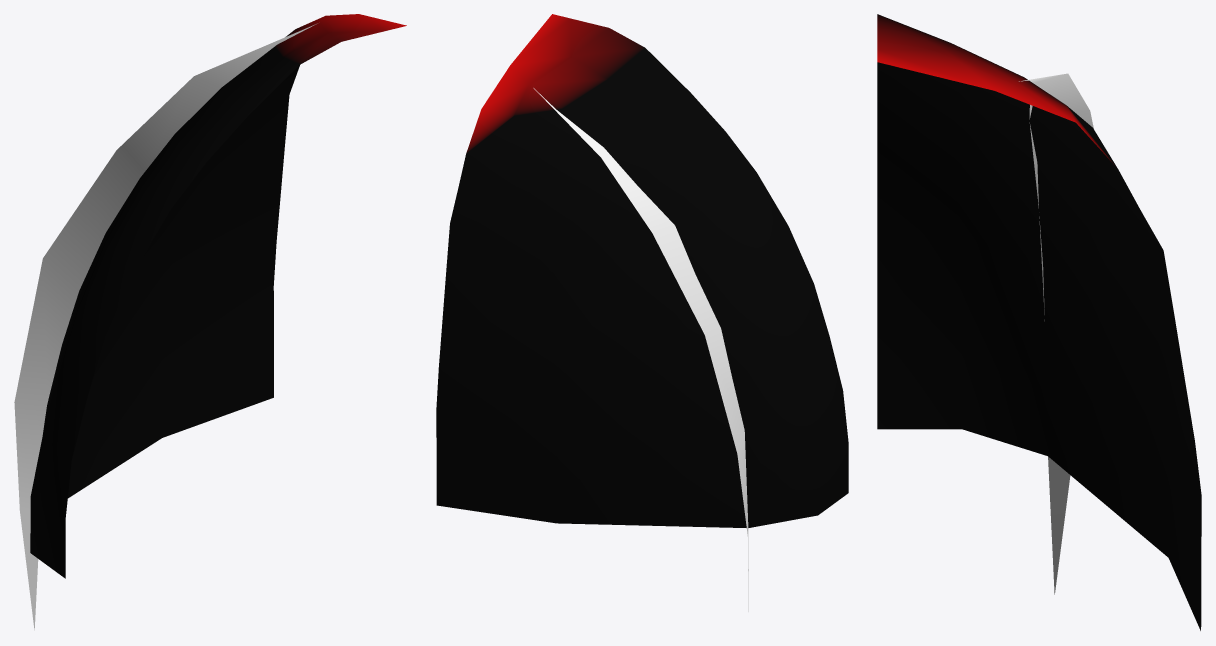
The model's file is TFD_Waterfall_03A_Top_R.fbx.
3 views of the same model, side by side, from view 1: azimuth 30°, elevation 25°; view 2: azimuth 150°, elevation 25°; view 3: azimuth 270°, elevation 25° (orthographic). The views are drawn at different scales.
Visible parts, largest first — view 1: TFD_Waterfall_03A_Top_R; view 2: TFD_Waterfall_03A_Top_R; view 3: TFD_Waterfall_03A_Top_R.
Boxes of the visible parts, box(x1,y1,x2,y2) form: TFD_Waterfall_03A_Top_R: box(14, 14, 406, 630); TFD_Waterfall_03A_Top_R: box(436, 14, 848, 611); TFD_Waterfall_03A_Top_R: box(877, 14, 1201, 630).
Bounding box in the file's own units: 3.05 × 5 × 2.06.
